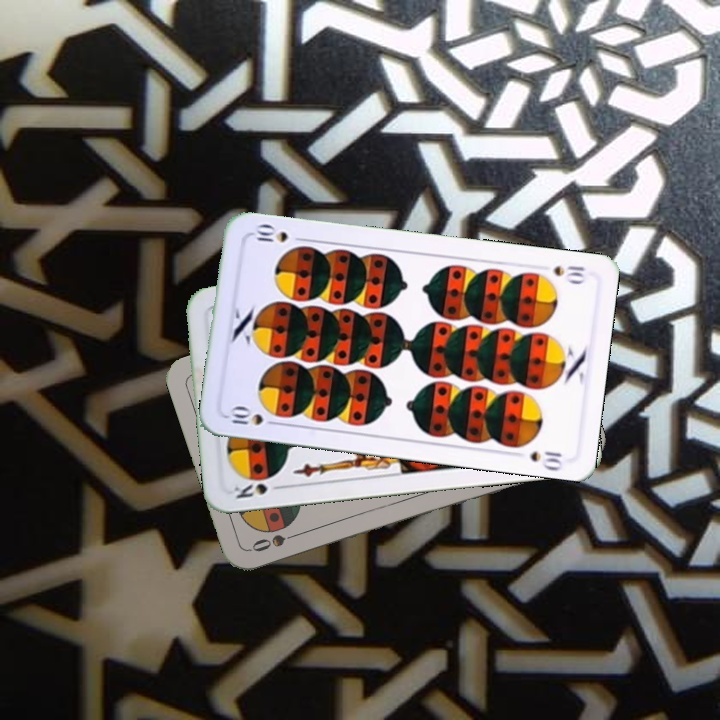S10: (223, 403, 282, 428), (550, 261, 587, 286)
SK: (230, 479, 287, 501)
SO: (247, 527, 305, 555)
